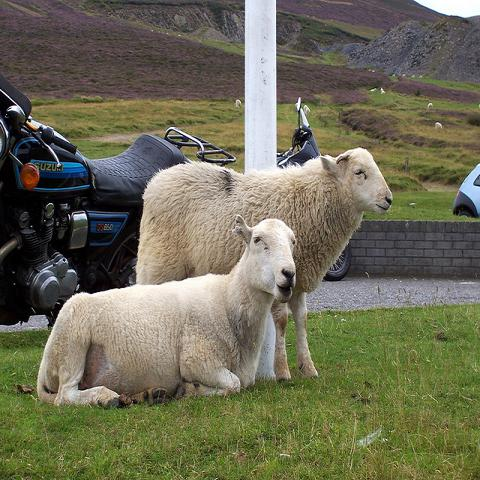car: (451, 162, 479, 217)
motorcycle: (1, 86, 236, 326), (277, 97, 353, 282)
